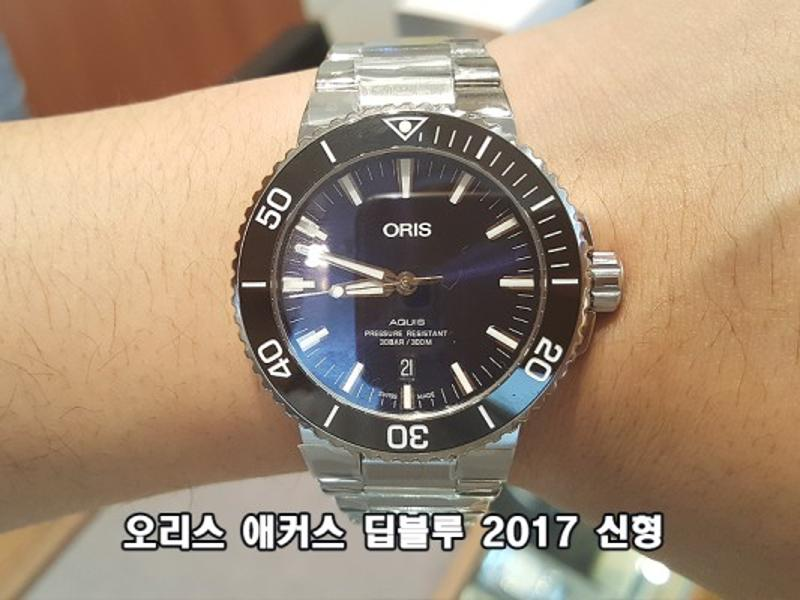watch: (227, 34, 626, 525)
